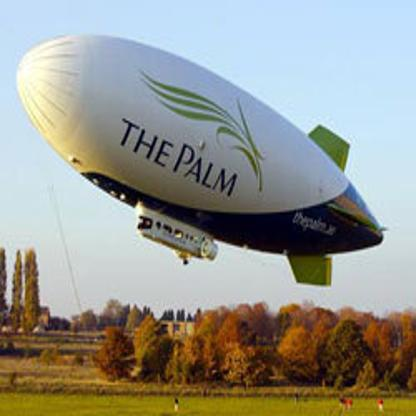Airship: (14, 33, 396, 287)
